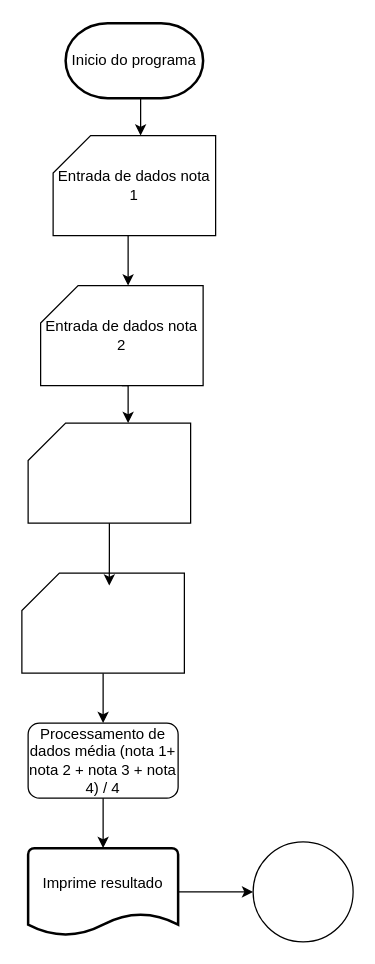
Image size: 375x964. Some labels were removed from this diagram. Each missing label, with the box of its shape:
Entrada de dados nota 3: (27, 422, 191, 523)
Entrada de dados nota 4: (21, 572, 184, 673)
Fim do programa: (252, 841, 353, 942)
